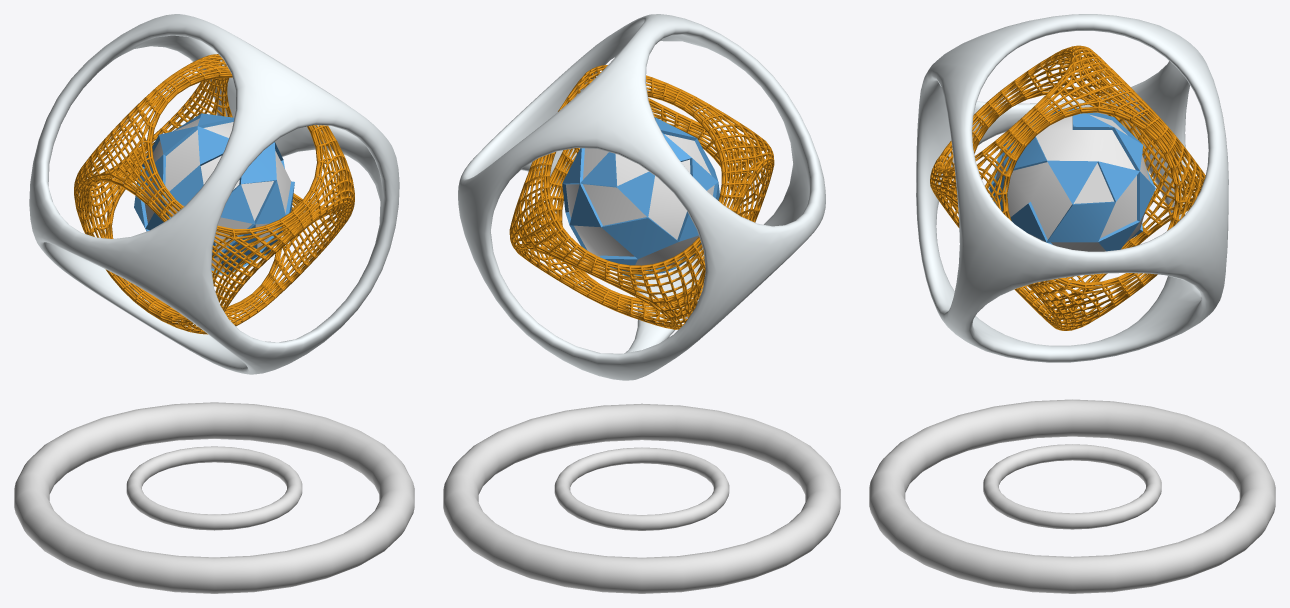
Rendered from Pointer.fbx.
The picture shows the model from 3 angles, left to right: view 1: azimuth 30°, elevation 25°; view 2: azimuth 150°, elevation 25°; view 3: azimuth 270°, elevation 25°; orthographic projection. The views are drawn at different scales.
Visible parts, largest first — view 1: Cube.002, Torus, Cube.001, Icosphere, Torus.001; view 2: Cube.002, Torus, Cube.001, Icosphere, Torus.001; view 3: Cube.002, Torus, Cube.001, Icosphere, Torus.001.
Part boxes in pixels (bbox=[...]): Cube.002: bbox=[29, 14, 399, 374]; Torus: bbox=[14, 402, 414, 593]; Cube.001: bbox=[74, 54, 354, 334]; Icosphere: bbox=[134, 113, 294, 274]; Torus.001: bbox=[126, 446, 302, 530]; Cube.002: bbox=[458, 14, 825, 380]; Torus: bbox=[443, 403, 840, 593]; Cube.001: bbox=[509, 65, 774, 329]; Icosphere: bbox=[562, 117, 719, 276]; Torus.001: bbox=[554, 447, 729, 530]; Cube.002: bbox=[916, 14, 1228, 362]; Torus: bbox=[869, 399, 1275, 593]; Cube.001: bbox=[930, 45, 1205, 330]; Icosphere: bbox=[989, 107, 1155, 251]; Torus.001: bbox=[983, 444, 1161, 529].
Size of the model in its own units: 313 by 419 by 311.
